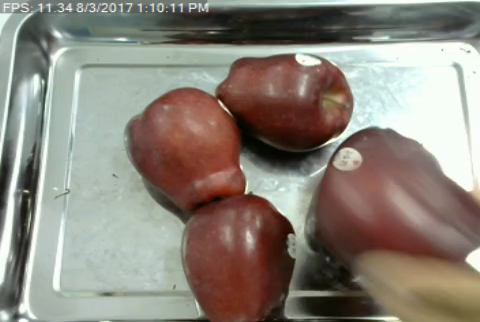Apple: (123, 85, 250, 214), (179, 191, 301, 322), (211, 52, 356, 159)
